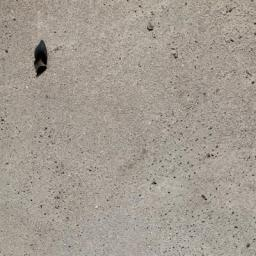FOD: (30, 37, 55, 80)
